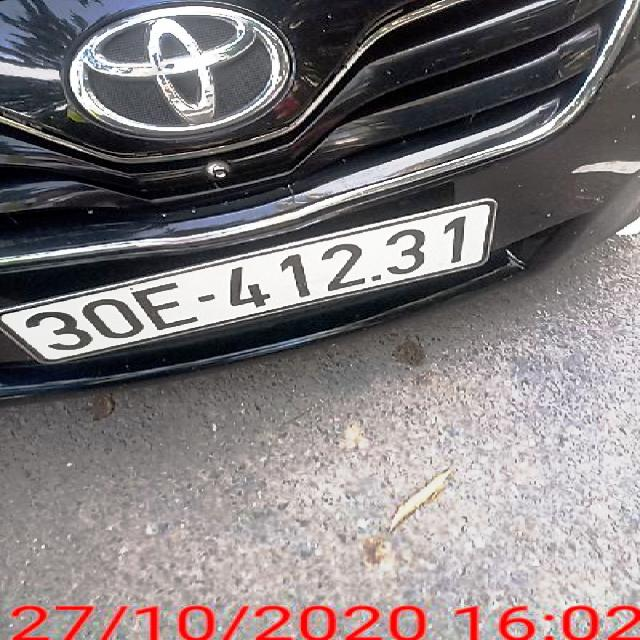license_plate: (2, 202, 496, 365)
